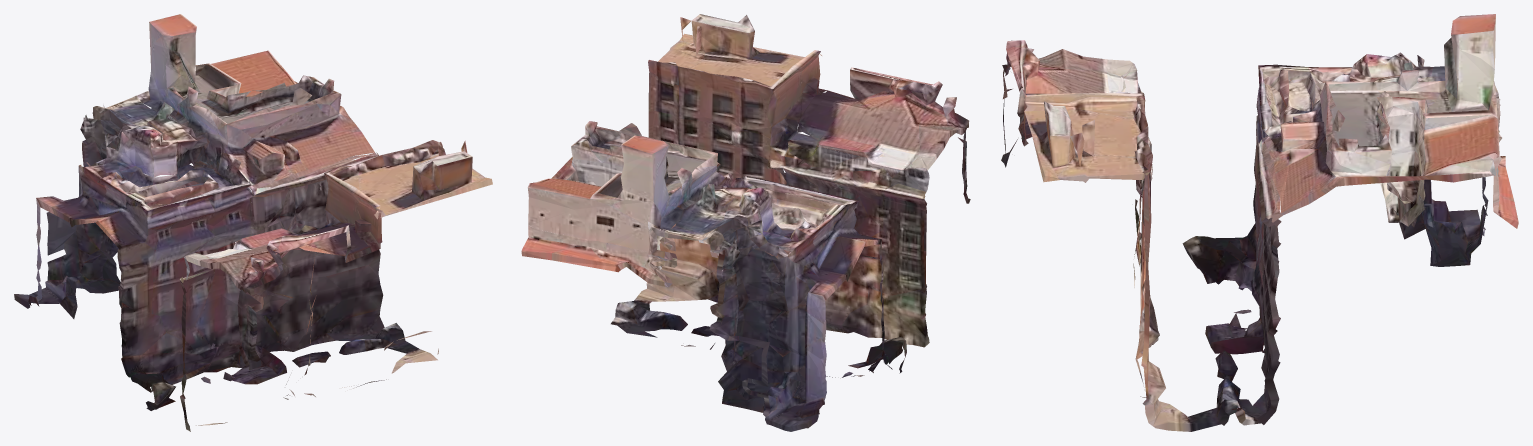
3 views of the same model, side by side, from view 1: azimuth 30°, elevation 25°; view 2: azimuth 150°, elevation 25°; view 3: azimuth 270°, elevation 25° (orthographic). The views are drawn at different scales.
Parts seen in each view (by area): view 1: Mesh_0; view 2: Mesh_0; view 3: Mesh_0.
Boxes of the visible parts, box(x1,y1,x2,y2) form: Mesh_0: box(14, 14, 492, 431); Mesh_0: box(521, 14, 970, 431); Mesh_0: box(1001, 14, 1518, 431).
Size of the model in its own units: 33.28 by 29.49 by 41.37.
Materials: 1 (1 with a texture image).
